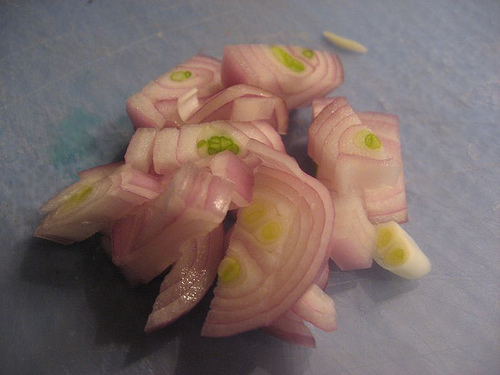onion: (200, 137, 335, 341)
